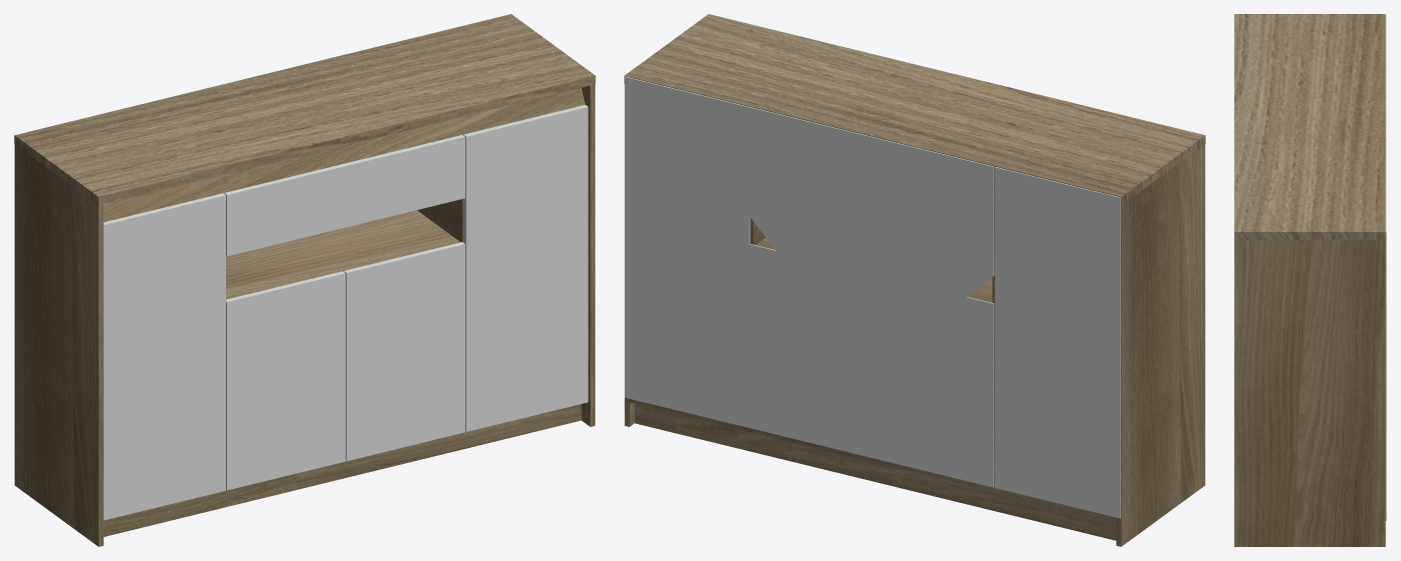
The model's file is A009022_v1_iluminado.glb.
The picture shows the model from 3 angles, left to right: view 1: azimuth 30°, elevation 25°; view 2: azimuth 150°, elevation 25°; view 3: azimuth 270°, elevation 25°; orthographic projection. The views are drawn at different scales.
Parts seen in each view (by area): view 1: A009022-TAPASXXXTAPA, A009022-PUERTASXXGDE, A009022-PUERTASXXGDE001, Simetruc801009022-COSTADOSCOST, A009022-PUERTASXCHIC, A009022-PUERTASXCHIC001, A009022-FRENTEXCAJON, A009022-ESTANTESFIJO, A009022-FRENTESXXFTE, A009022-FRENTESXZOCA, A009022-COSTADOSCOST, A009022-SEPDORESXSEP; view 2: A009022-TAPASXXXTAPA, A009022-FONDOMUEBLEX, A009022-FONDOMUEBLEX001, A009022-FONDOMUEBLEY, Simetruc801009022-COSTADOSCOST, A009022-FONDOMUEBLEZ, A009022-FONDOMUEBLEZ001, A009022-FRENTESXZOCA001, A009022-PISOSXXXPISO; view 3: A009022-COSTADOSCOST, A009022-TAPASXXXTAPA, A009022-FONDOMUEBLEX, A009022-FONDOMUEBLEY.
Boxes of the visible parts, x1,y1,x2,y2 form: A009022-TAPASXXXTAPA: [14, 14, 595, 205]; A009022-PUERTASXXGDE: [463, 105, 588, 431]; A009022-PUERTASXXGDE001: [103, 193, 225, 520]; Simetruc801009022-COSTADOSCOST: [14, 144, 103, 546]; A009022-PUERTASXCHIC: [343, 242, 465, 461]; A009022-PUERTASXCHIC001: [226, 271, 345, 490]; A009022-FRENTEXCAJON: [224, 135, 465, 256]; A009022-ESTANTESFIJO: [226, 210, 460, 299]; A009022-FRENTESXXFTE: [103, 87, 585, 222]; A009022-FRENTESXZOCA: [103, 404, 581, 536]; A009022-COSTADOSCOST: [581, 84, 595, 426]; A009022-SEPDORESXSEP: [417, 199, 463, 242]; A009022-TAPASXXXTAPA: [624, 14, 1205, 205]; A009022-FONDOMUEBLEX: [624, 76, 750, 427]; A009022-FONDOMUEBLEX001: [995, 167, 1120, 518]; A009022-FONDOMUEBLEY: [749, 107, 994, 297]; Simetruc801009022-COSTADOSCOST: [1116, 144, 1205, 546]; A009022-FONDOMUEBLEZ: [749, 244, 994, 395]; A009022-FONDOMUEBLEZ001: [749, 336, 994, 487]; A009022-FRENTESXZOCA001: [634, 404, 1116, 540]; A009022-PISOSXXXPISO: [629, 399, 1116, 521]; A009022-COSTADOSCOST: [1234, 240, 1385, 546]; A009022-TAPASXXXTAPA: [1234, 14, 1385, 239]; A009022-FONDOMUEBLEX: [1385, 177, 1386, 520]; A009022-FONDOMUEBLEY: [1385, 70, 1386, 177].
Bounding box in the file's own units: 1.5 × 1.01 × 0.443.
1 material, 1 textured.
